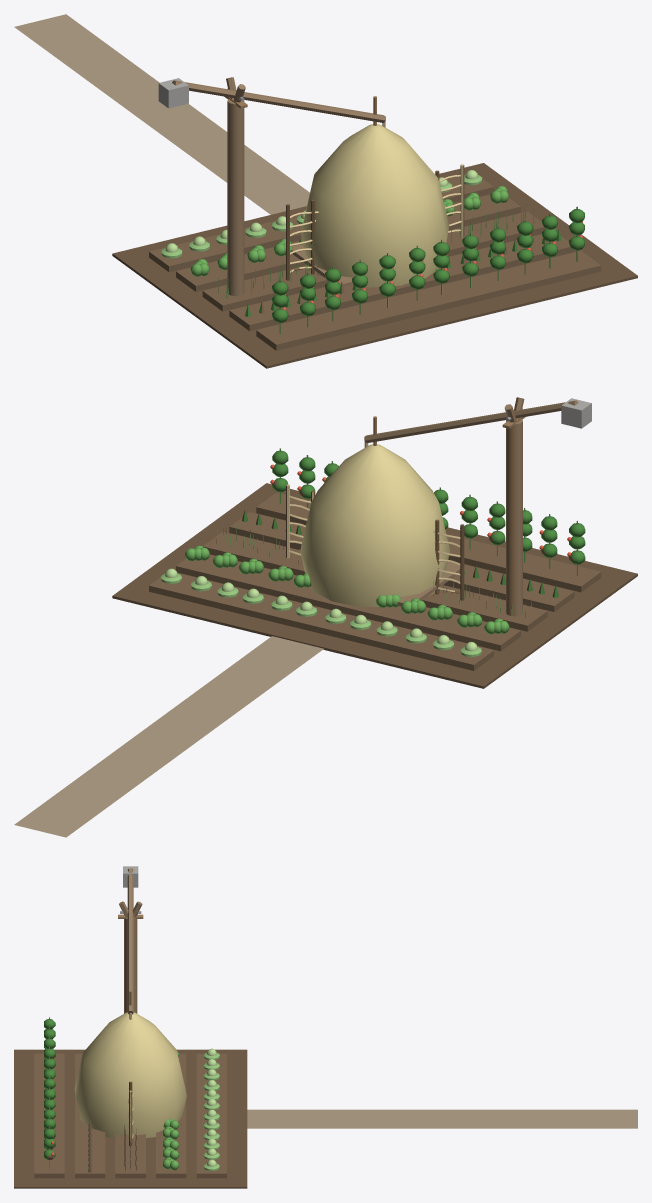
File: bz_village.glb
3 views of the same model, one above another, from view 1: azimuth 30°, elevation 25°; view 2: azimuth 150°, elevation 25°; view 3: azimuth 270°, elevation 25° (orthographic). The views are drawn at different scales.
Parts seen in each view (by area): view 1: Город.001, Копиця, Стежка_10м, Журавель_стовп.001, Журавель_важіль.001, Тин_3м, Тин_глечики_3м; view 2: Город.001, Копиця, Стежка_10м, Журавель_стовп.001, Журавель_важіль.001, Тин_3м; view 3: Город.001, Копиця, Стежка_10м, Журавель_важіль.001, Журавель_стовп.001.
Boxes of the visible parts, x1,y1,x2,y2 form: Город.001: (112, 163, 637, 368); Копиця: (301, 96, 449, 287); Стежка_10м: (14, 14, 309, 214); Журавель_стовп.001: (224, 77, 247, 296); Журавель_важіль.001: (158, 78, 385, 122); Тин_3м: (286, 166, 464, 280); Тин_глечики_3м: (286, 164, 464, 278); Город.001: (112, 448, 637, 688); Копиця: (300, 416, 450, 606); Стежка_10м: (14, 636, 323, 837); Журавель_стовп.001: (502, 397, 525, 616); Журавель_важіль.001: (364, 398, 591, 442); Тин_3м: (286, 486, 464, 600); Город.001: (14, 1017, 247, 1188); Копиця: (74, 990, 186, 1138); Стежка_10м: (247, 1109, 637, 1128); Журавель_важіль.001: (120, 866, 141, 1014); Журавель_стовп.001: (118, 901, 143, 1013).
Size of the model in its own units: 6.85 by 3.87 by 12.3.
